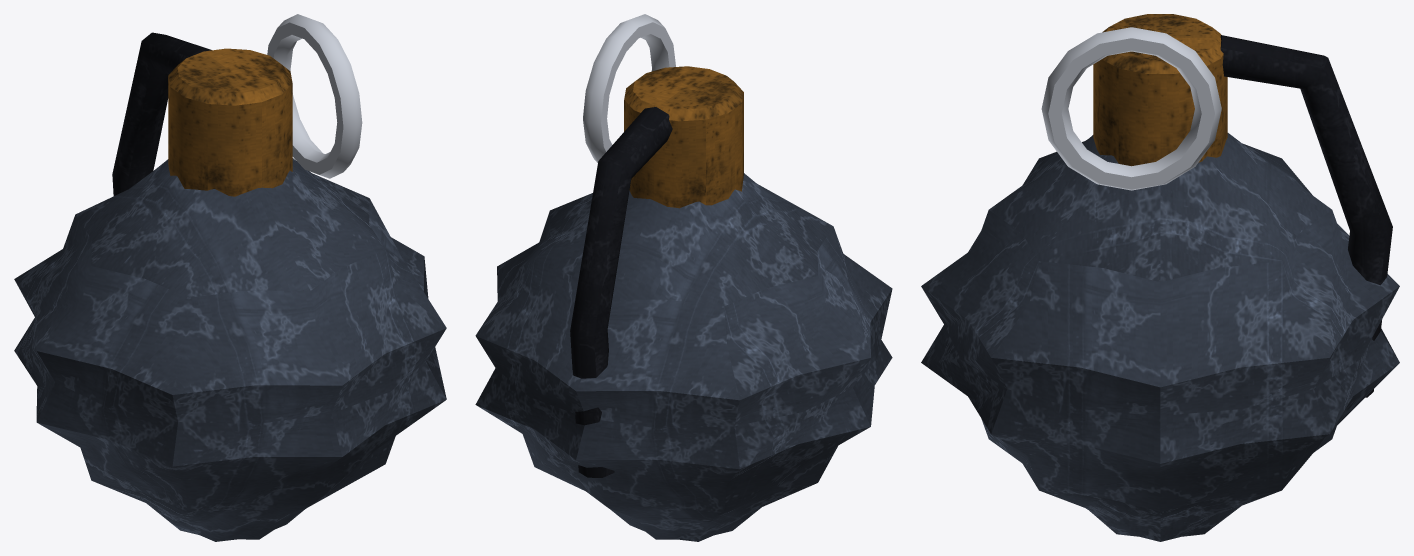
File: frag_grenade.glb
The picture shows the model from 3 angles, left to right: view 1: azimuth 30°, elevation 25°; view 2: azimuth 150°, elevation 25°; view 3: azimuth 270°, elevation 25°; orthographic projection. The views are drawn at different scales.
Visible parts, largest first — view 1: FragGrenade; view 2: FragGrenade; view 3: FragGrenade.
Boxes of the visible parts, x1,y1,x2,y2 form: FragGrenade: (14, 14, 446, 541); FragGrenade: (475, 14, 892, 541); FragGrenade: (921, 14, 1399, 541).
Size of the model in its own units: 0.0999 by 0.1208 by 0.0999.
Materials: 4 (3 with a texture image).
